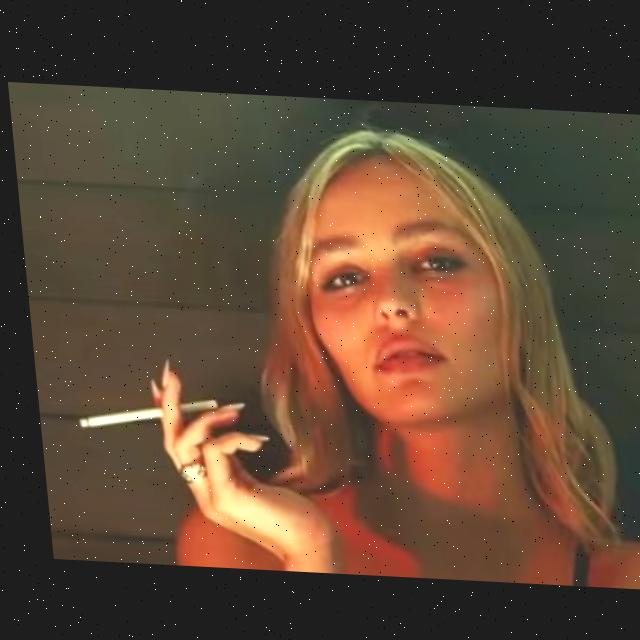cigarette: (69, 391, 213, 432)
